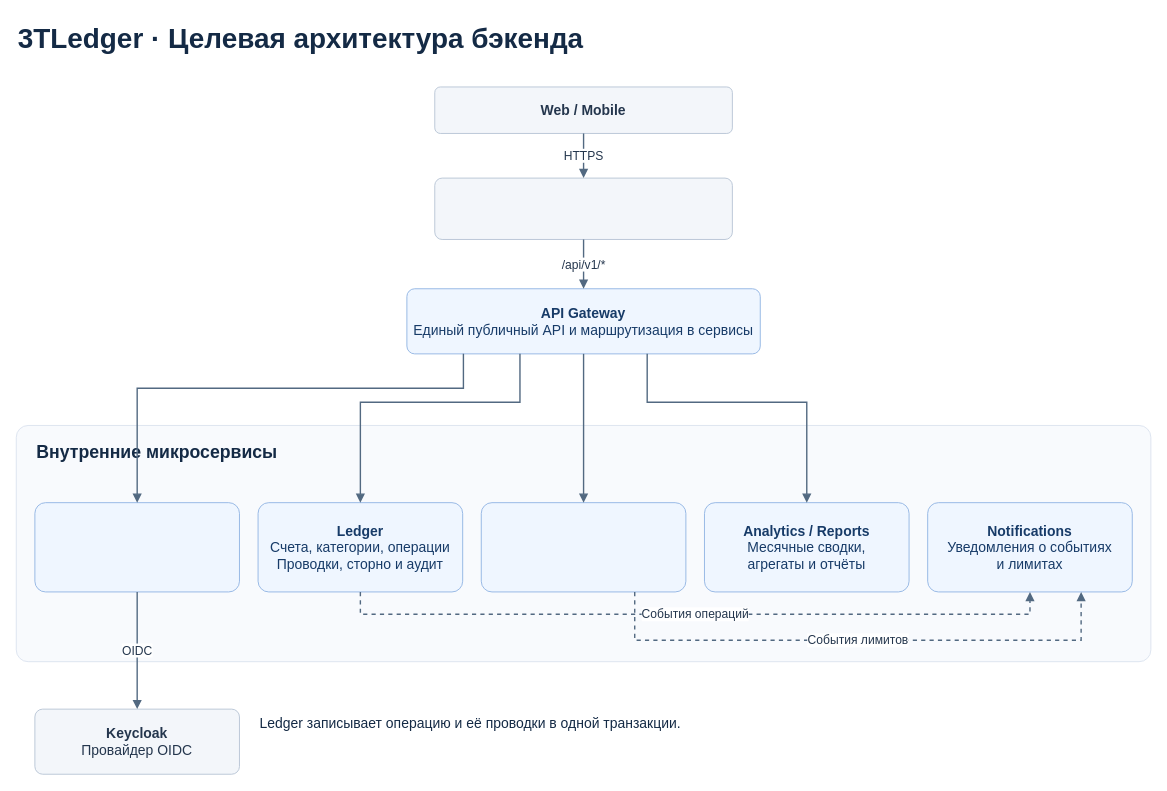
Some shapes in this 1167 by 791 pixel diagram are drawn without their labels. Each missing label, with the box of its shape:
Budgets Бюджеты по периодам и категориям · план и факт: (480, 502, 686, 592)
Identity Веб- и мобильный вход Сессии и выход: (34, 502, 239, 592)
Kubernetes Ingress Внешний HTTPS и маршрутизация по пути: (434, 177, 732, 239)
